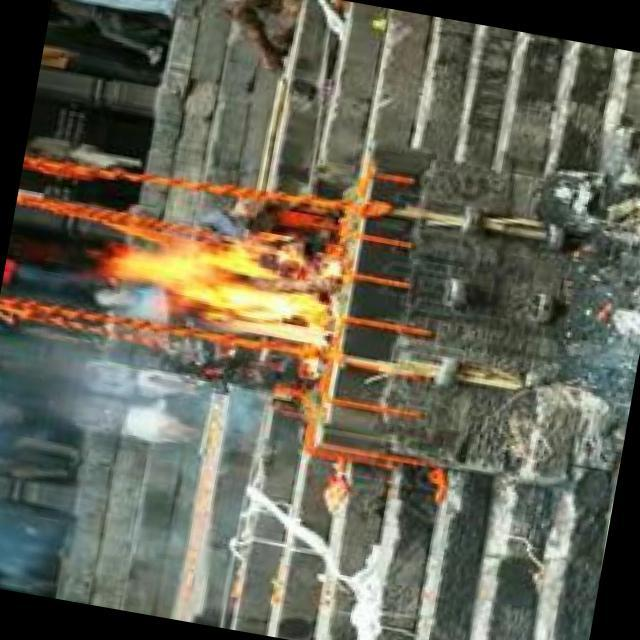Fire: (87, 209, 349, 358)
